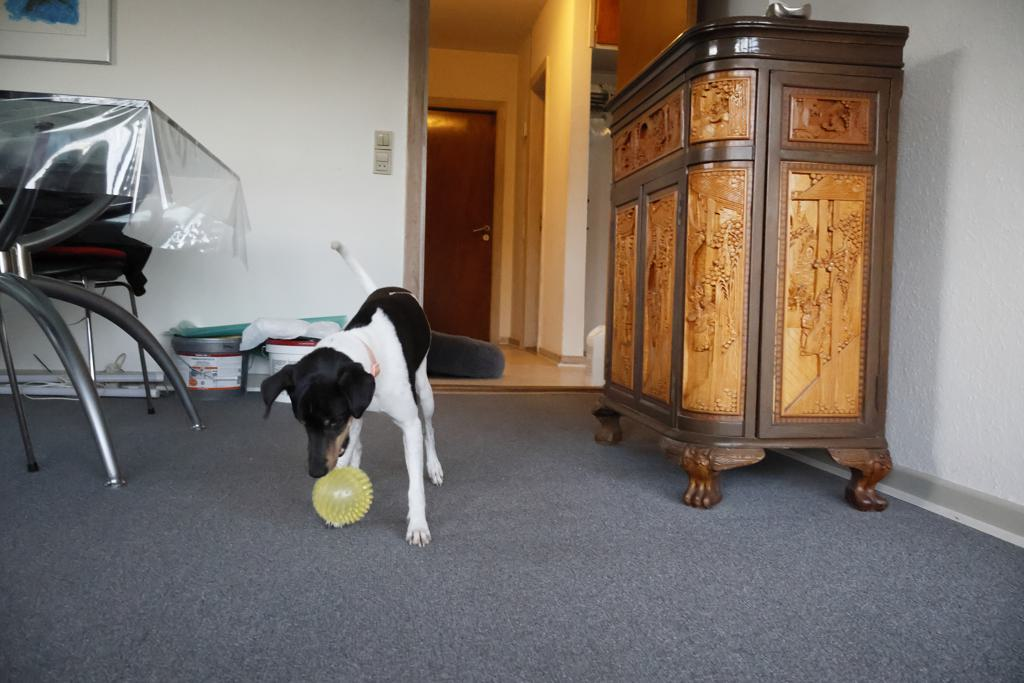Dog: (255, 235, 457, 551)
